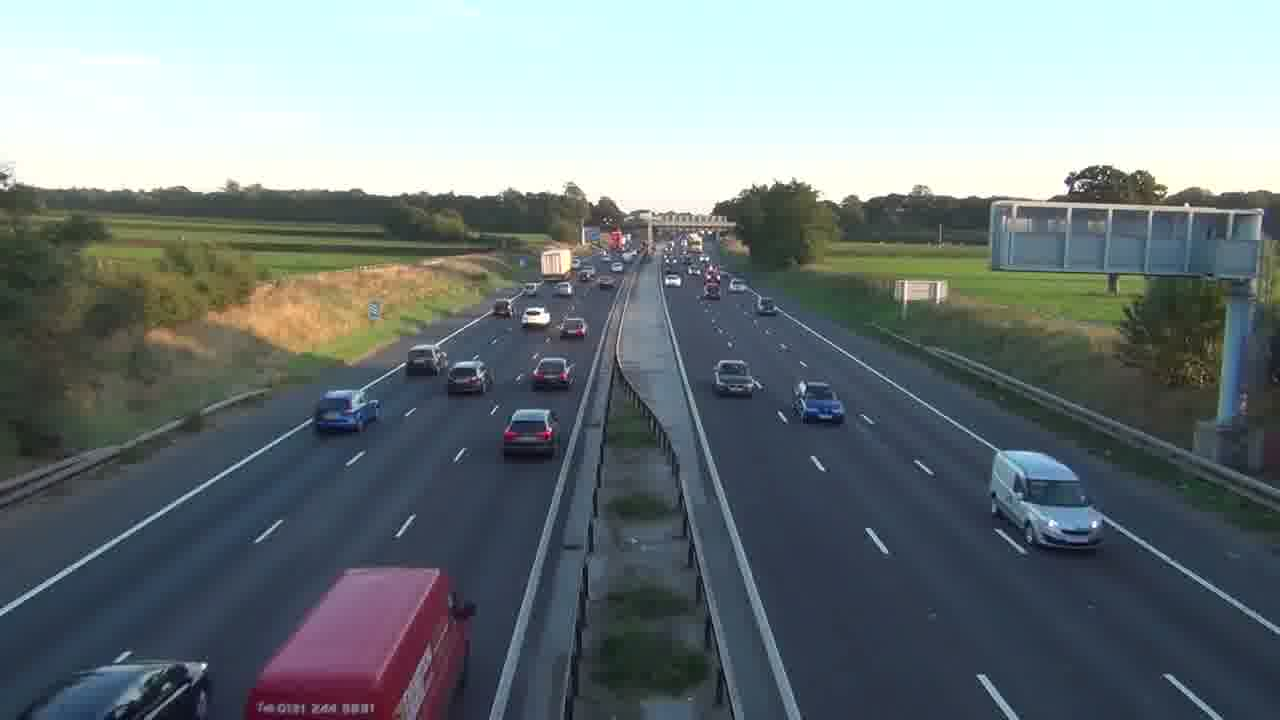bus: (243, 562, 476, 717)
car: (17, 651, 211, 718), (502, 407, 561, 458), (314, 389, 373, 434), (794, 380, 846, 424), (712, 359, 759, 397), (530, 355, 576, 390), (446, 359, 488, 395), (406, 345, 438, 376)
truck: (988, 448, 1105, 550)
